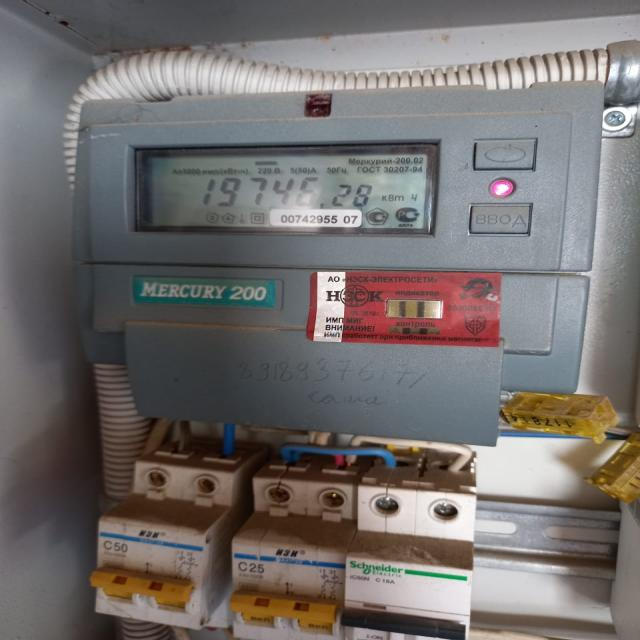Display: (130, 138, 442, 232)
seal_imp: (306, 271, 502, 344)
seal_mercury: (62, 78, 624, 530)
